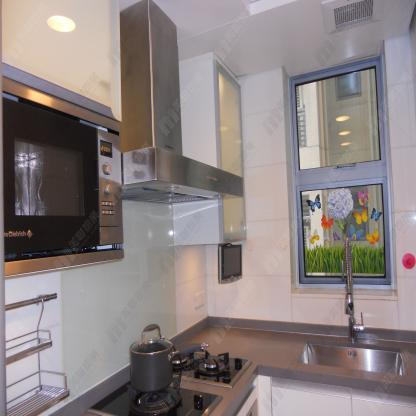Exhaust Hood: (121, 147, 244, 205)
Faucet: (340, 232, 366, 339)
Microwave: (2, 74, 124, 278)
Sink: (270, 331, 416, 389)
Stove: (80, 340, 269, 416)
